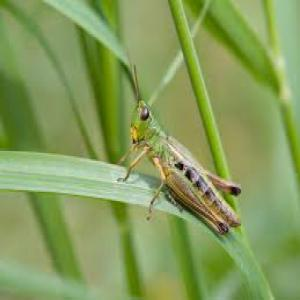locust: (128, 57, 300, 272)
